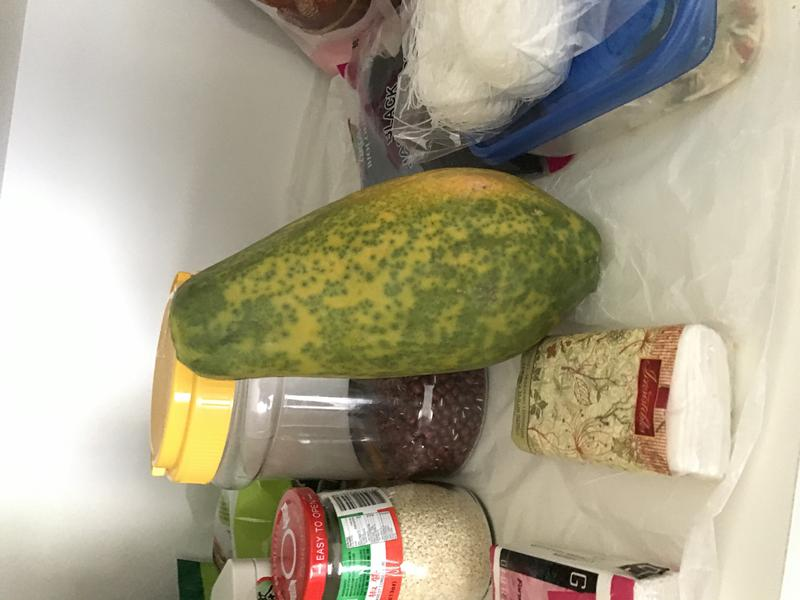papaya: (167, 157, 618, 395)
